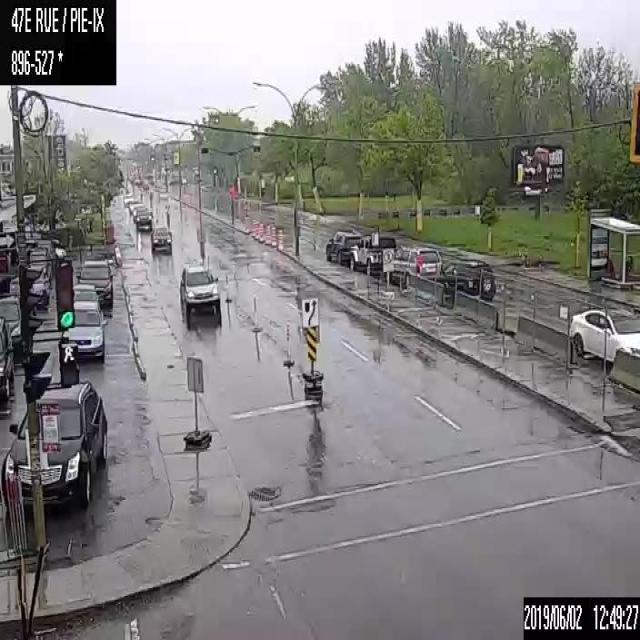construction: (285, 323, 290, 360), (276, 228, 283, 252), (252, 294, 257, 326), (263, 223, 270, 244), (270, 224, 276, 246), (224, 273, 229, 299), (258, 222, 264, 242), (252, 218, 257, 238), (206, 255, 209, 265)
pedestrian: (602, 255, 614, 276), (624, 254, 632, 282)
vehicle: (1, 382, 109, 511), (567, 305, 639, 364), (58, 299, 105, 362), (435, 258, 495, 304), (386, 243, 442, 287), (0, 294, 33, 362), (179, 263, 220, 316), (349, 231, 397, 275), (8, 261, 51, 307), (74, 257, 113, 303), (324, 230, 367, 268), (0, 314, 12, 398), (149, 224, 172, 255), (136, 205, 151, 230), (122, 192, 133, 206), (129, 198, 139, 213), (133, 207, 136, 224)
